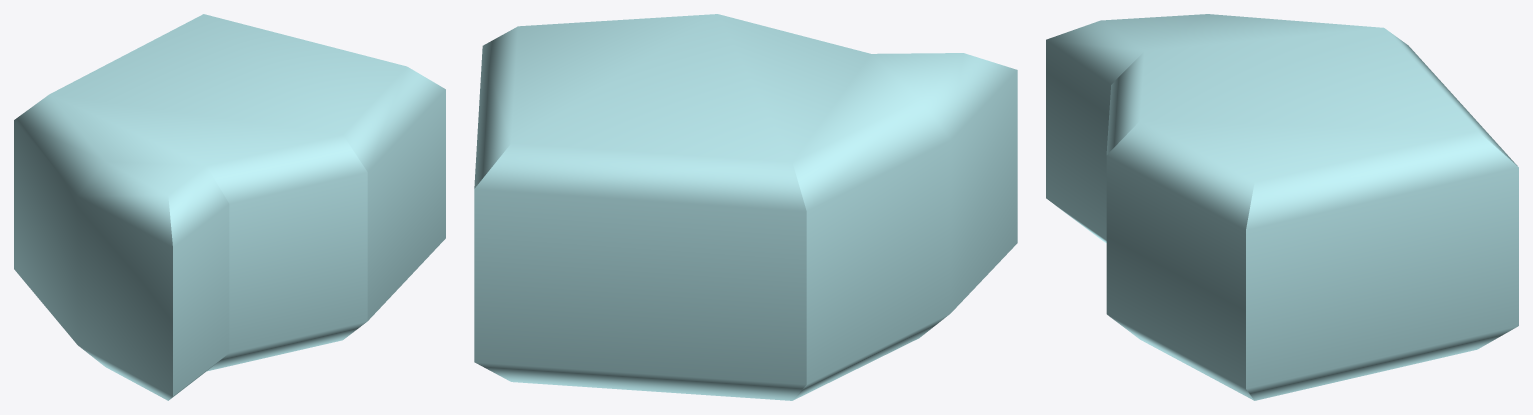
The model's file is ice_floe_small_004.fbx.
The picture shows the model from 3 angles, left to right: view 1: azimuth 30°, elevation 25°; view 2: azimuth 150°, elevation 25°; view 3: azimuth 270°, elevation 25°; orthographic projection. The views are drawn at different scales.
Visible parts, largest first — view 1: ice_floe_small_004; view 2: ice_floe_small_004; view 3: ice_floe_small_004.
Part boxes in pixels (bbox=[...]): ice_floe_small_004: bbox=[14, 14, 445, 400]; ice_floe_small_004: bbox=[474, 14, 1017, 400]; ice_floe_small_004: bbox=[1046, 14, 1518, 400].
Size of the model in its own units: 137 by 136 by 69.62.
